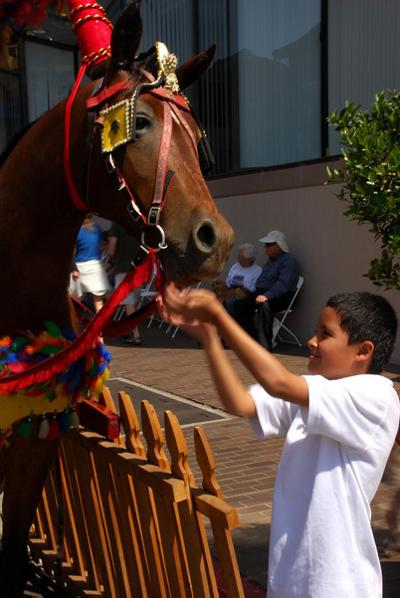person: (156, 279, 400, 598)
